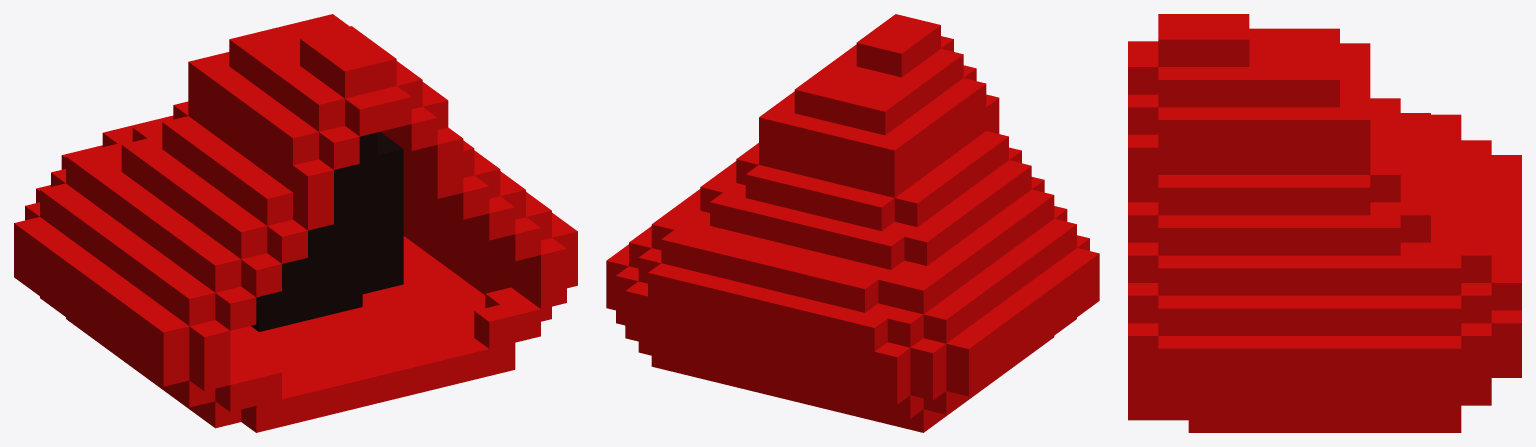
The model's file is player head.obj.
3 views of the same model, side by side, from view 1: azimuth 30°, elevation 25°; view 2: azimuth 150°, elevation 25°; view 3: azimuth 270°, elevation 25° (orthographic). The views are drawn at different scales.
Bounding box in the file's own units: 1.6 × 1.2 × 1.3.
1 material, 1 textured.
